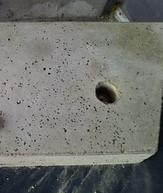Spalling: (1, 24, 127, 155), (95, 80, 119, 104)
